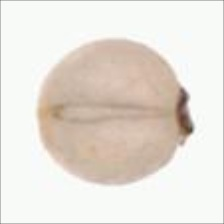L5: (49, 96, 175, 127), (174, 81, 197, 155), (34, 91, 54, 144)
L6: (33, 34, 197, 188)
